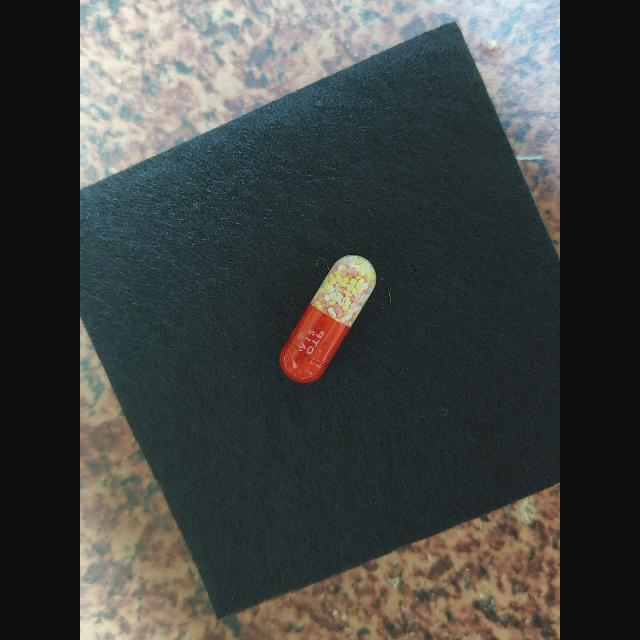Intact Capsule: (279, 255, 376, 383)
